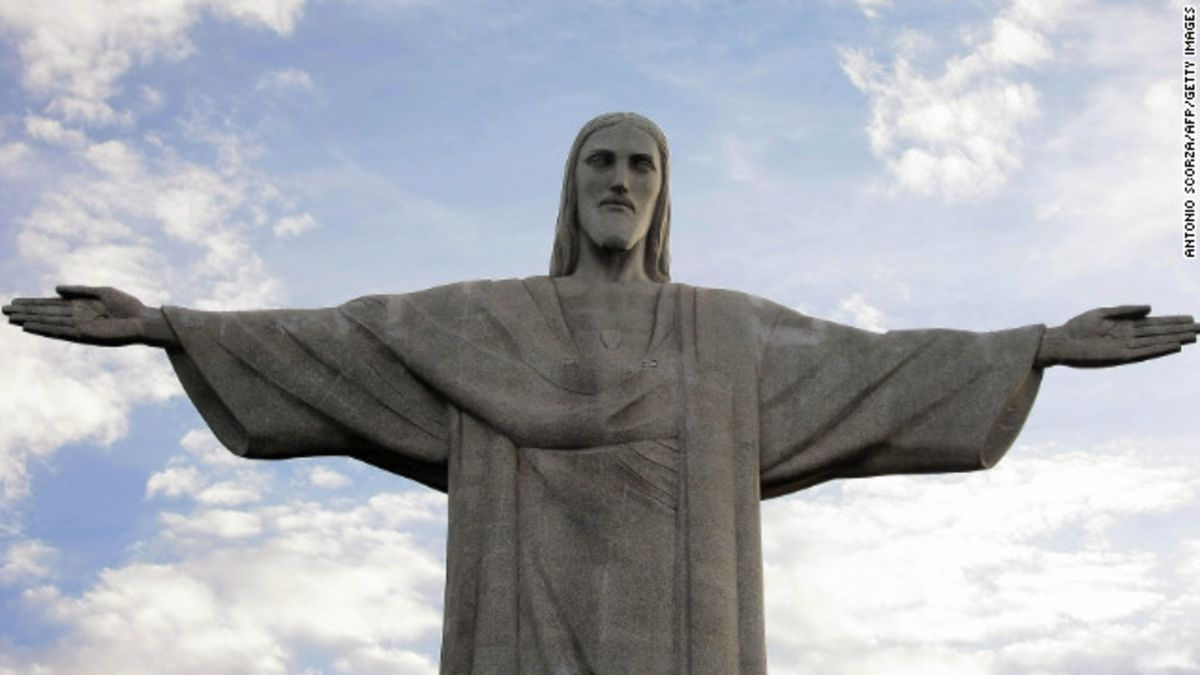person-like: (2, 101, 1200, 673)
